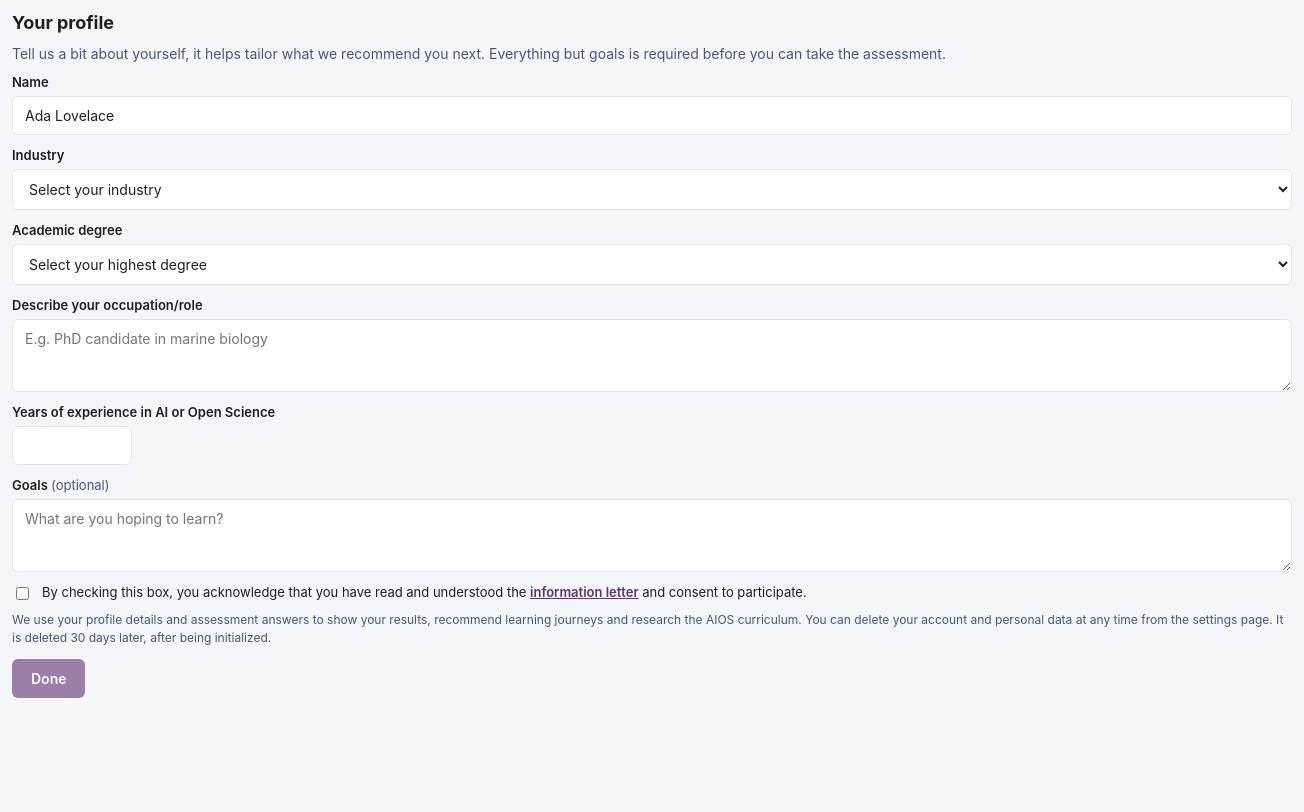
Test: ProfileForm › information letter consent (first-time profile step) › keeps Done disabled until the information letter is acknowledged
Expected: the field labelled "Name" is enabled, [12,96,1292,135]
Step 1. Select "Government" in the dropdown labelled "Industry" → [652, 190], box [12,169,1292,210]
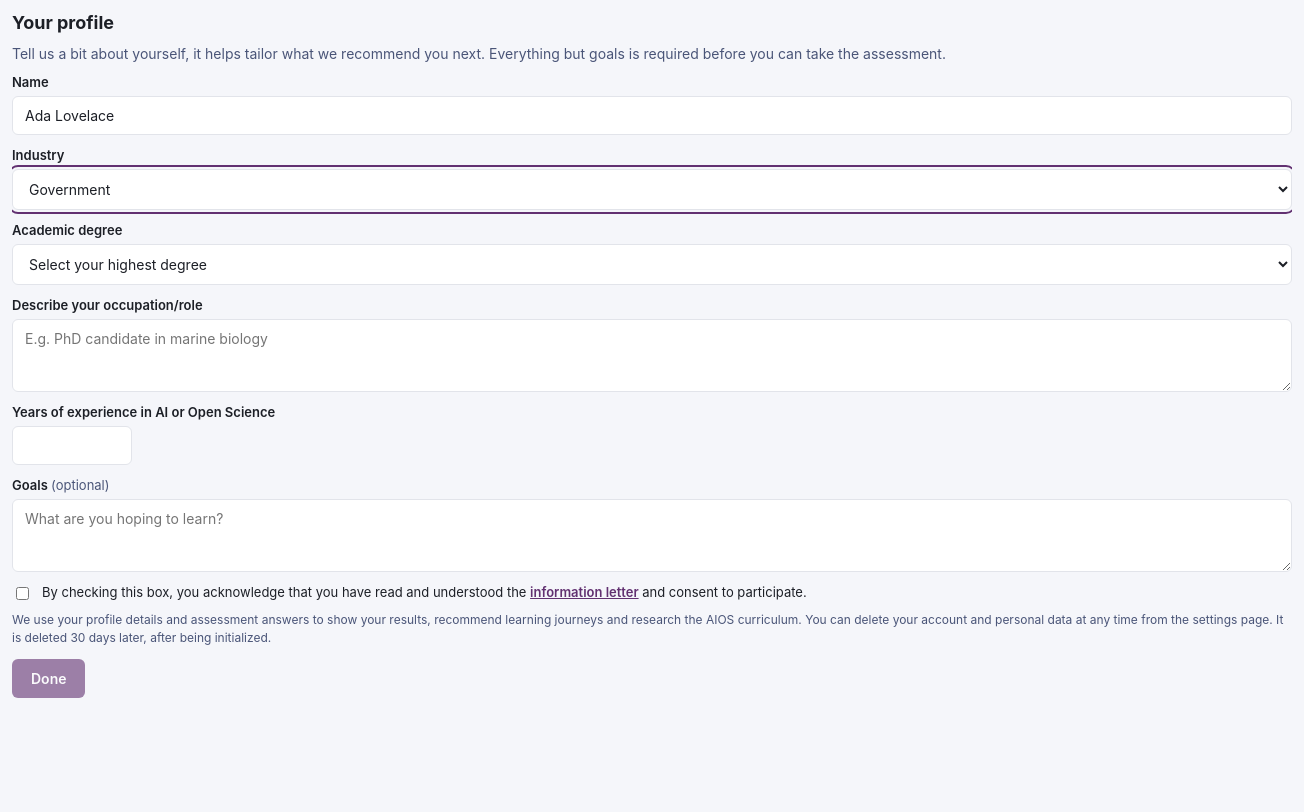
Step 2. Select "Master's" in the dropdown labelled "Academic degree" → [652, 264], box [12,244,1292,285]
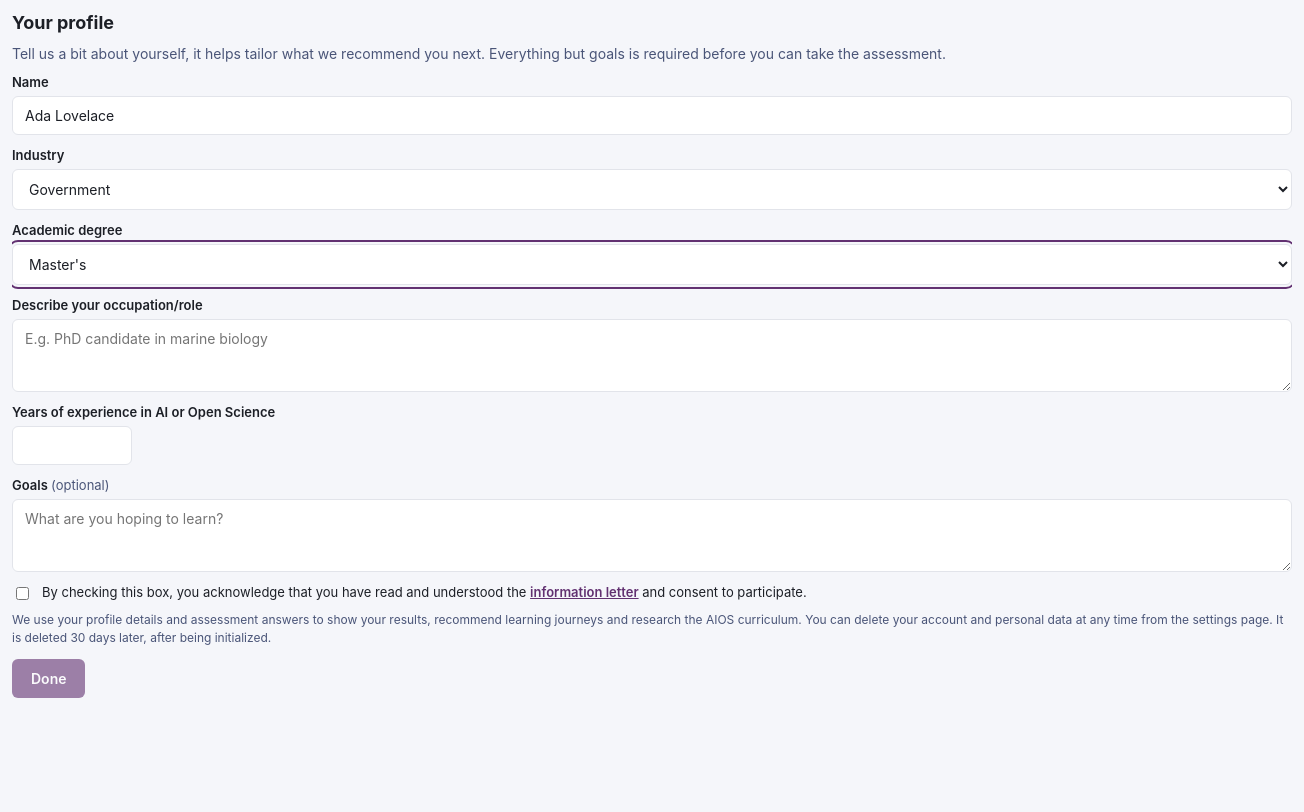
Step 3. Type "  Data steward  " into the text box labelled "Describe your occupation/role" → [652, 356], box [12,319,1292,392]
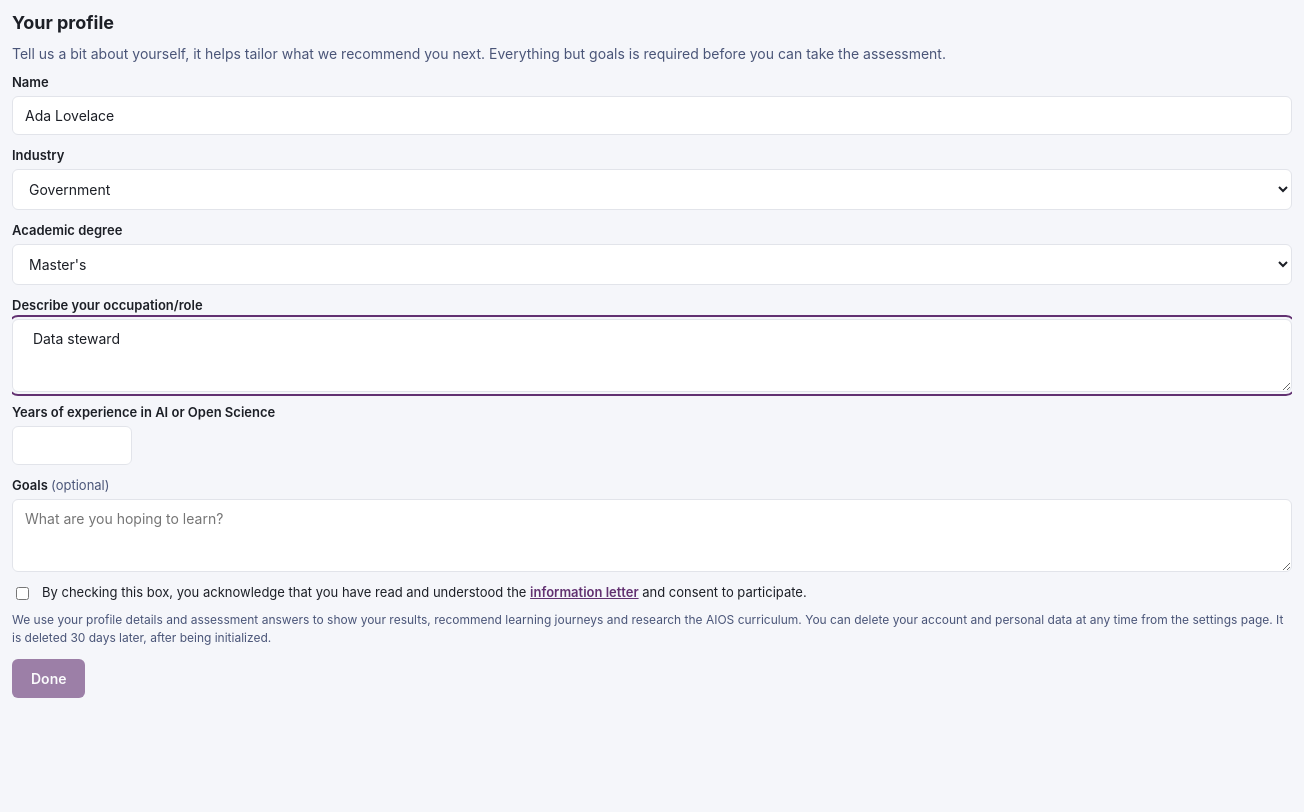
Step 4. Type "2" into the number field labelled "Years of experience in AI or Open Science" → [72, 446], box [12,426,132,465]
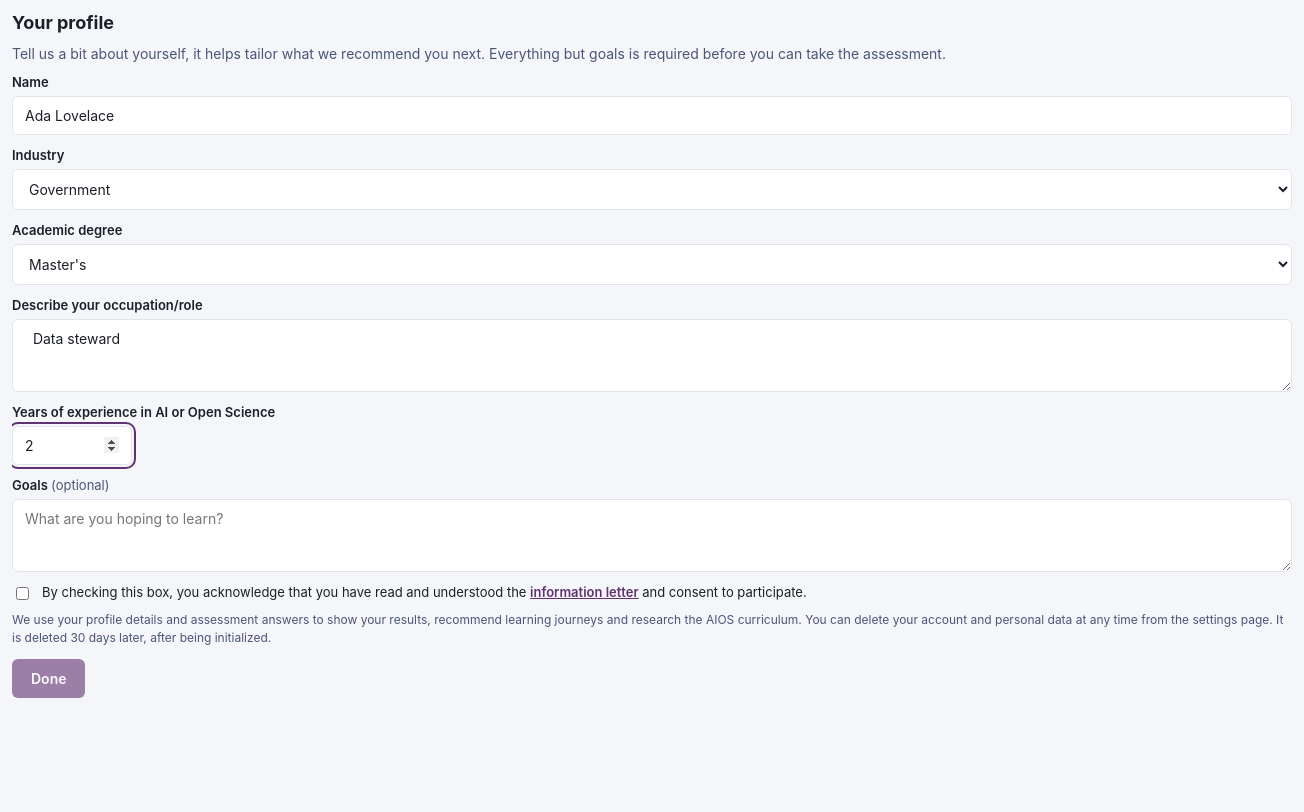
Expected: the button "Done" is disabled, [12,659,86,698]
Expected: the button "information letter" is shown, [530,584,639,600]
Step 5. Click the checkbox → [22, 594], box [16,587,29,600]
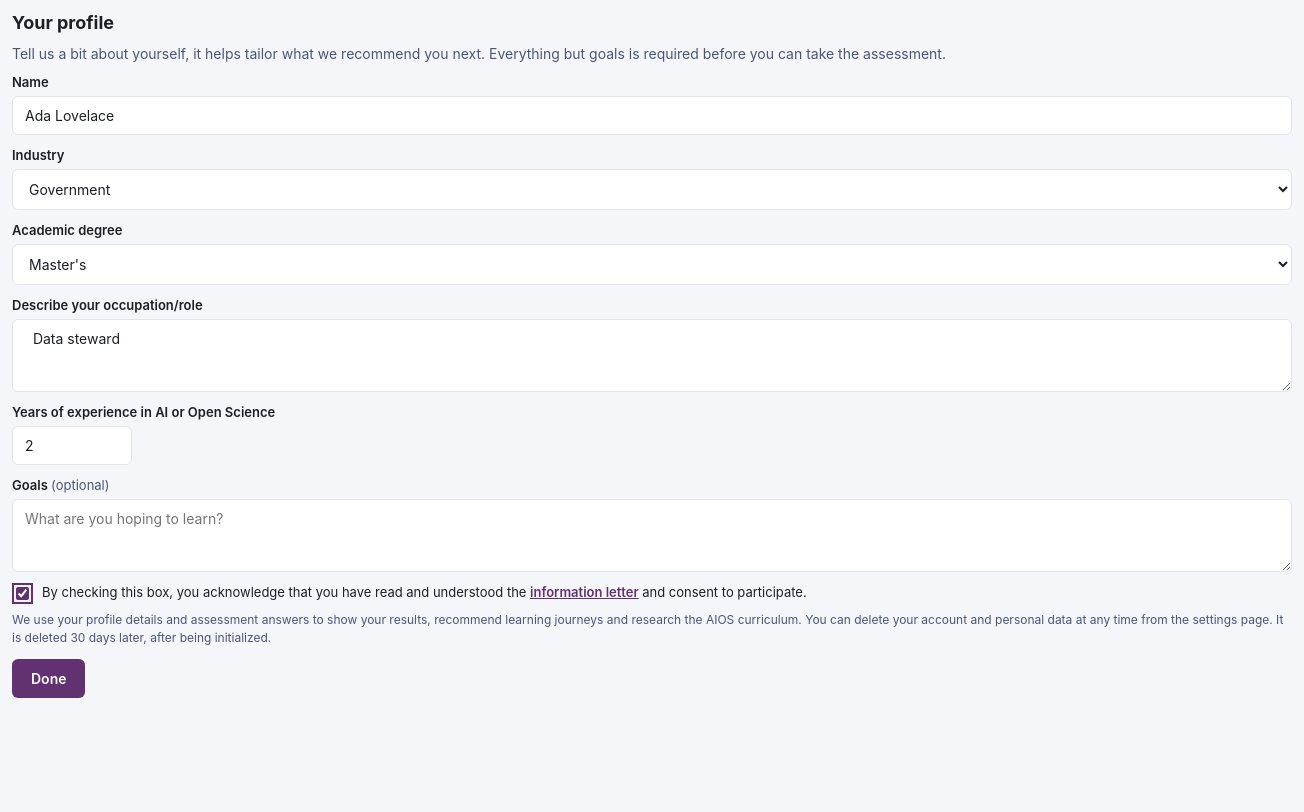
Result: the button "Done" is enabled at [12,659,86,698]
